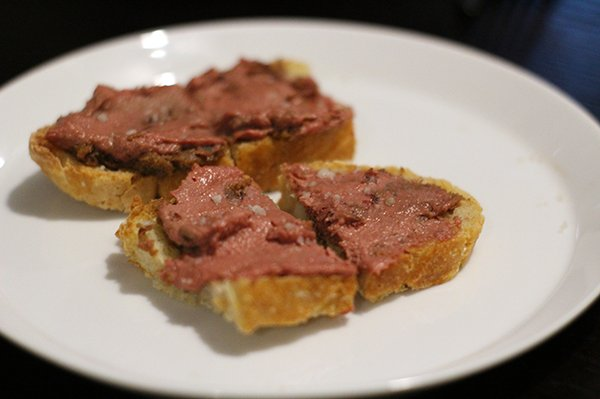soup: (280, 160, 485, 304)
